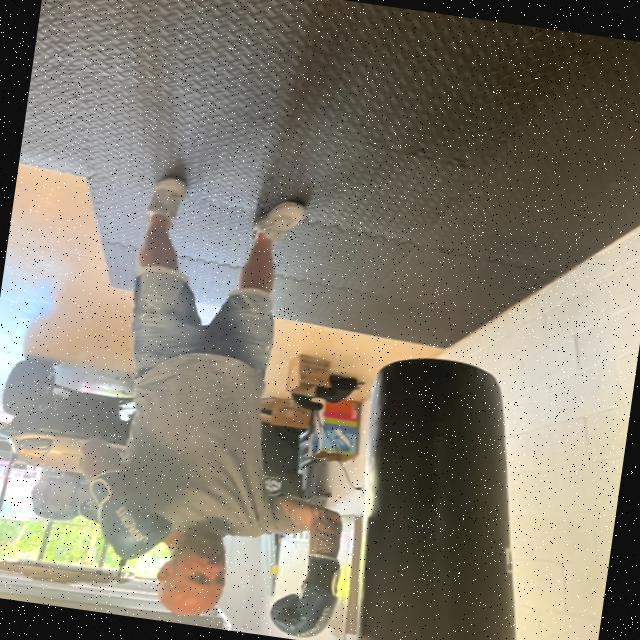uppercut: (62, 433, 391, 640)
